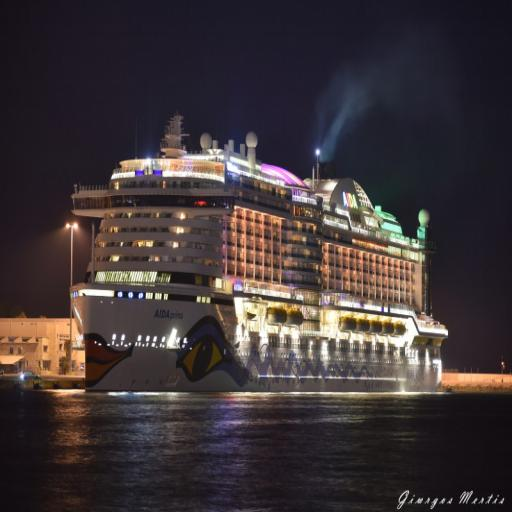cruises: (66, 113, 450, 402)
